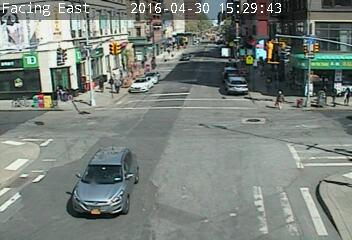neg: (305, 85, 329, 117), (99, 112, 118, 138), (48, 129, 67, 154), (200, 85, 218, 110), (236, 85, 253, 108), (143, 99, 160, 121)
pos: (273, 88, 288, 109), (336, 85, 350, 105), (50, 83, 64, 101), (111, 76, 124, 93), (97, 76, 108, 92)
